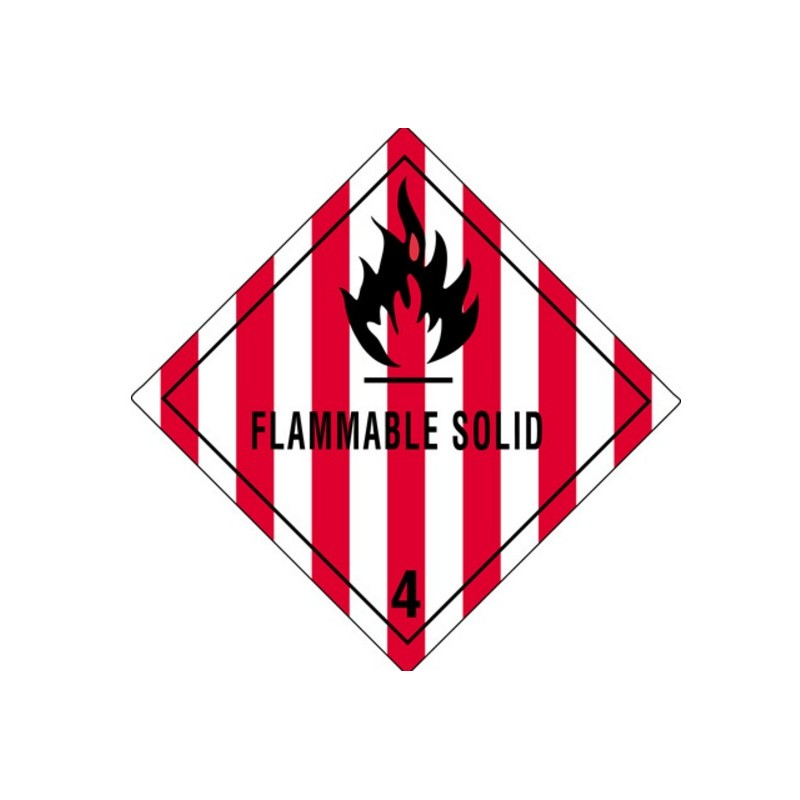FlammableSolid: (169, 139, 670, 681)
